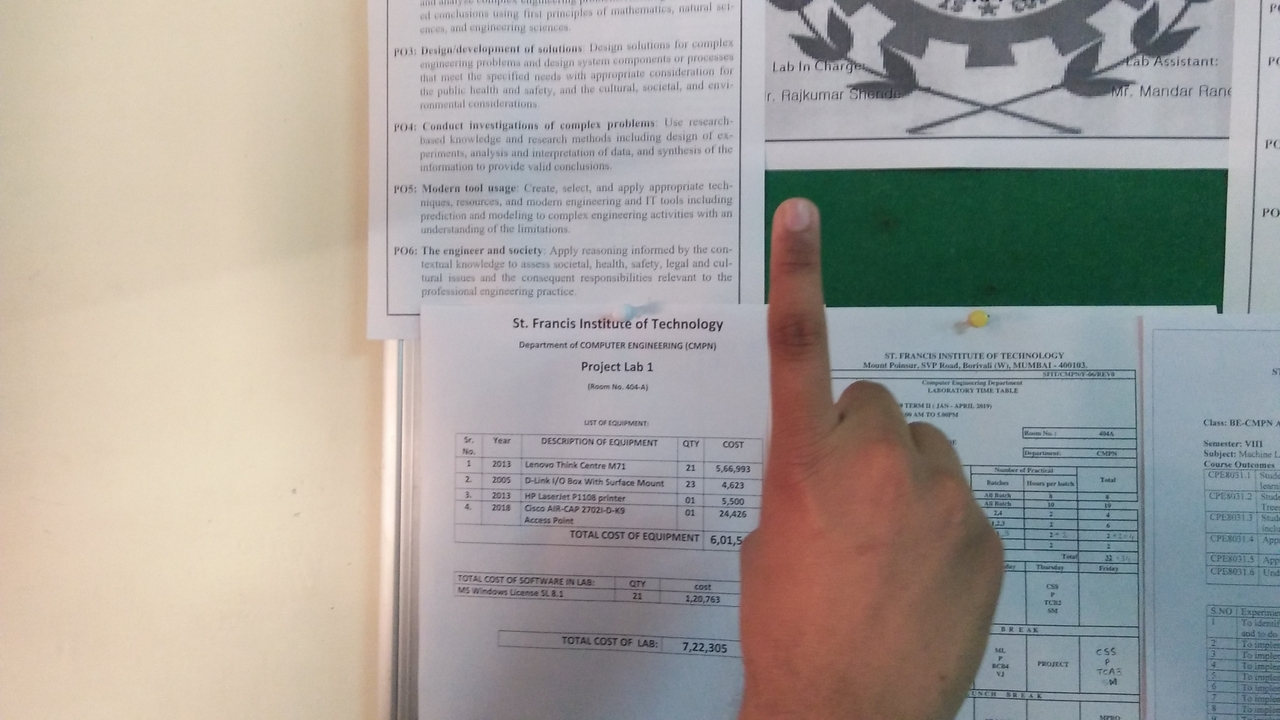fingertip: (770, 194, 828, 250)
